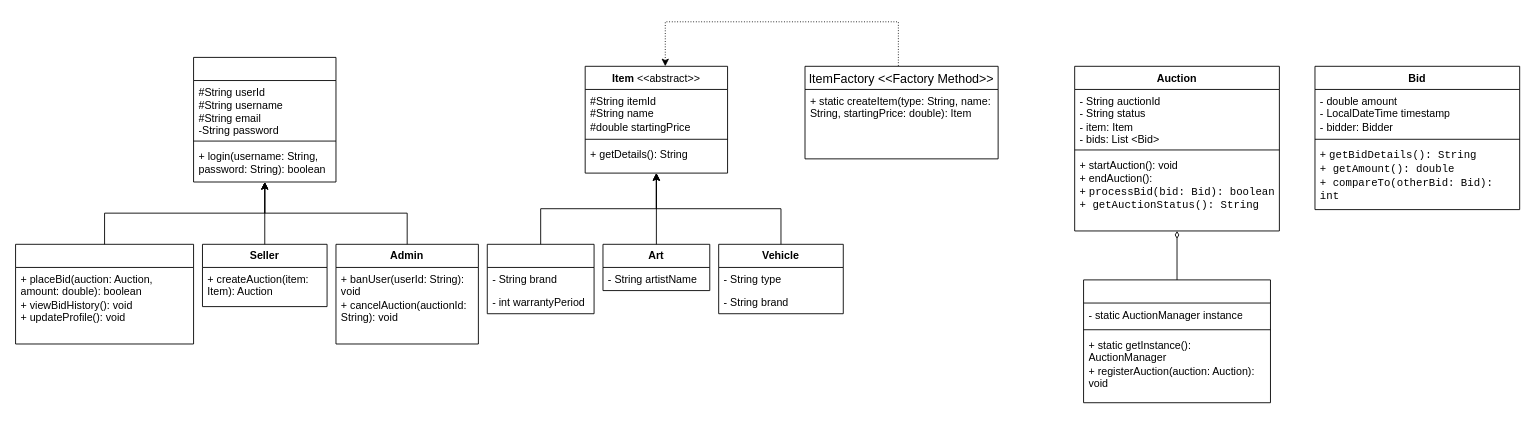
The diagram is 1535 pixels wide and 421 high, and some of its shapes have lost their labels. Here are the shapes that lost their labels. From the top down, the box of each, then its label:
(193, 57, 336, 182): User <<abstract>>
(15, 243, 194, 344): Bidder
(486, 243, 594, 314): Electronics
(1083, 279, 1270, 403): AuctionManager <<Singleton>>
